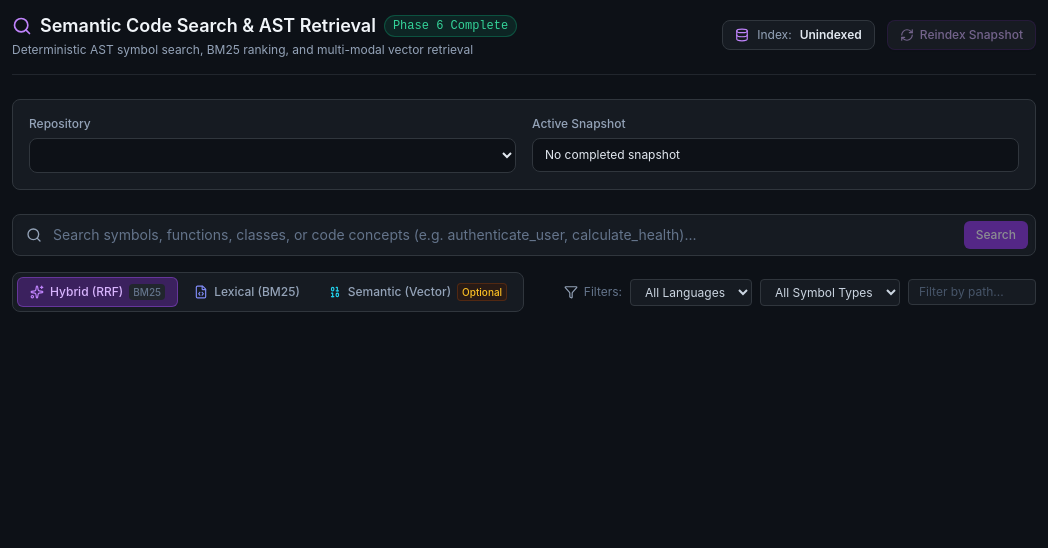
CodeSearchPage Component › executes code search and renders results with citations and scores
Replace the text in the field with placeholder "Search symbols, functions, classes" with "authenticate_user" at [524, 235], box [12,214,1036,256]
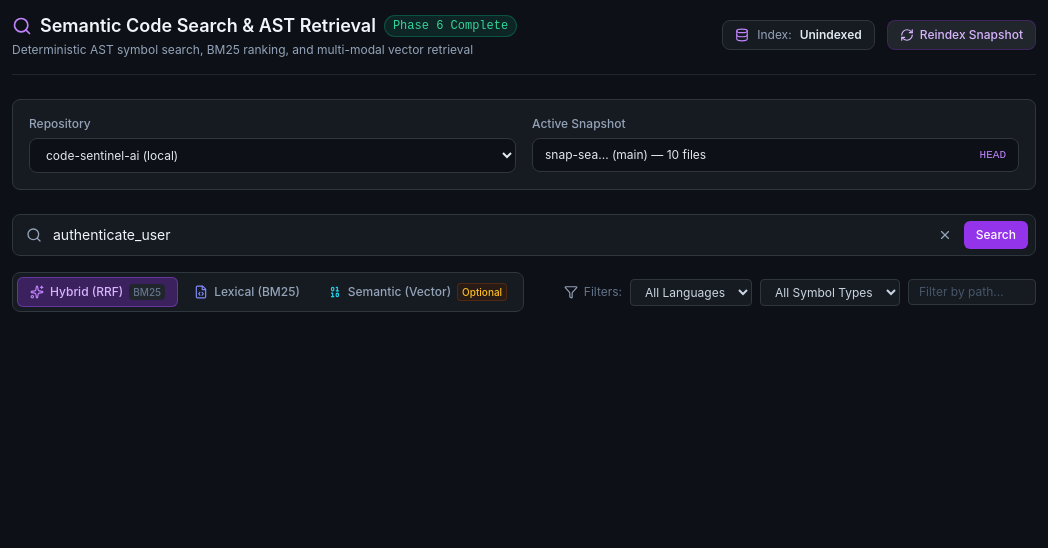
Click the button "Search" at [996, 235], box [964,221,1028,249]
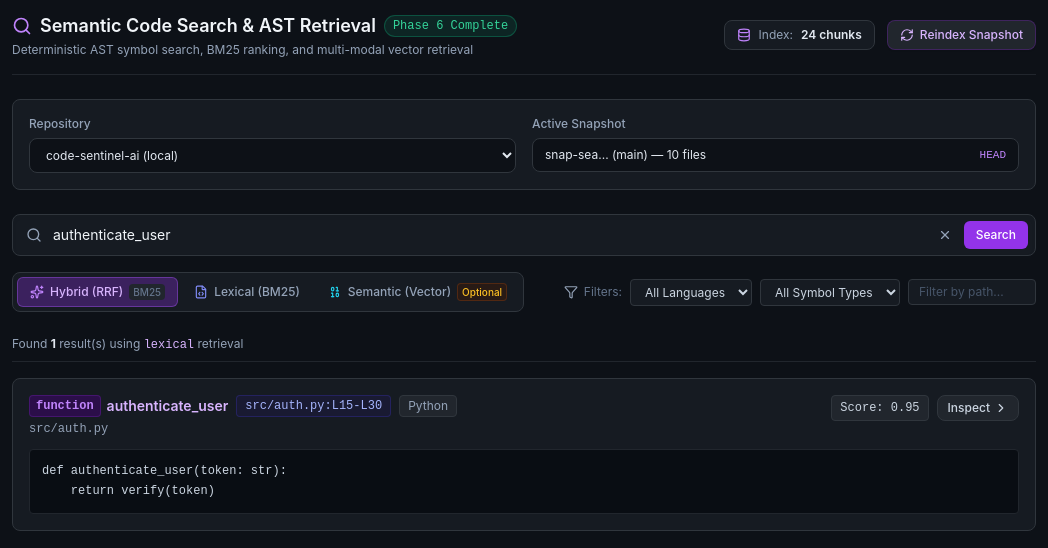
Expected: the text "authenticate_user" is shown, [107,396,228,416]
Expected: the text "src/auth.py:L15-L30" is shown, [236,395,391,417]
Expected: the text "Score: 0.95" is shown, [831,395,928,421]
